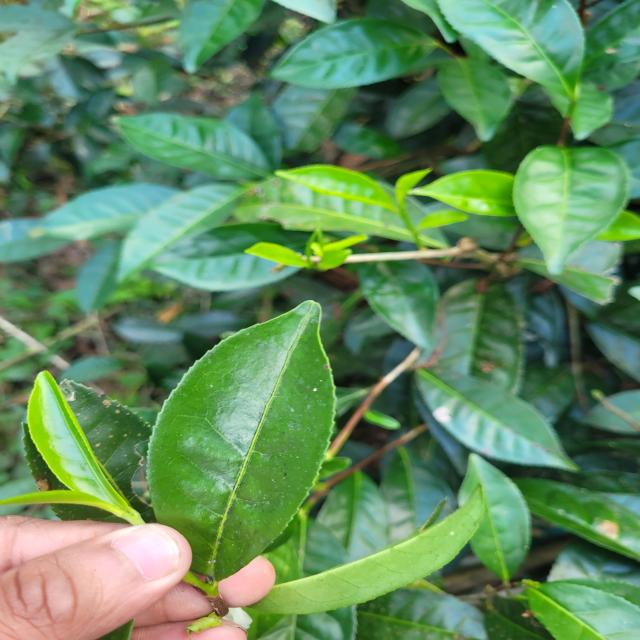Category D(7+ days, Not for Tea): (132, 275, 368, 587)
